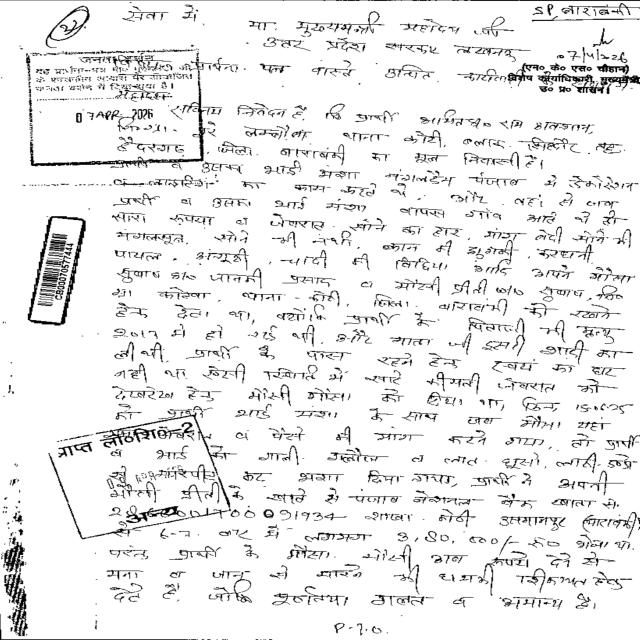antritgovtstamp: (34, 416, 234, 537)
barcode: (24, 207, 90, 333)
jantadarsan: (23, 50, 212, 168)
signnamestamp: (505, 27, 640, 100)
